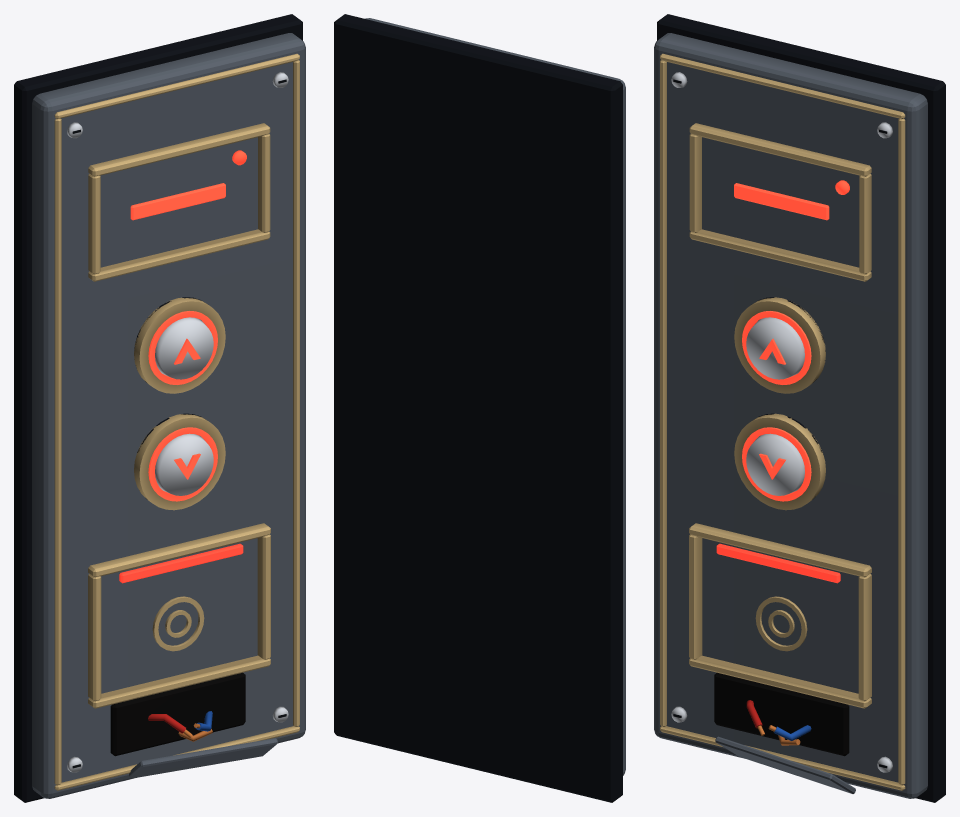
The model's file is prop_elevator_panel_broken.glb.
The picture shows the model from 3 angles, left to right: view 1: azimuth 30°, elevation 25°; view 2: azimuth 150°, elevation 25°; view 3: azimuth 330°, elevation 25°; orthographic projection.
Visible parts, largest first — view 1: ElevatorPanel; view 2: ElevatorPanel; view 3: ElevatorPanel.
Boxes of the visible parts, left/top/right/bottom form: ElevatorPanel: left=14, top=14, right=305, bottom=802; ElevatorPanel: left=334, top=14, right=625, bottom=802; ElevatorPanel: left=654, top=14, right=945, bottom=802.
Size of the model in its own units: 0.202 by 0.492 by 0.0634.
